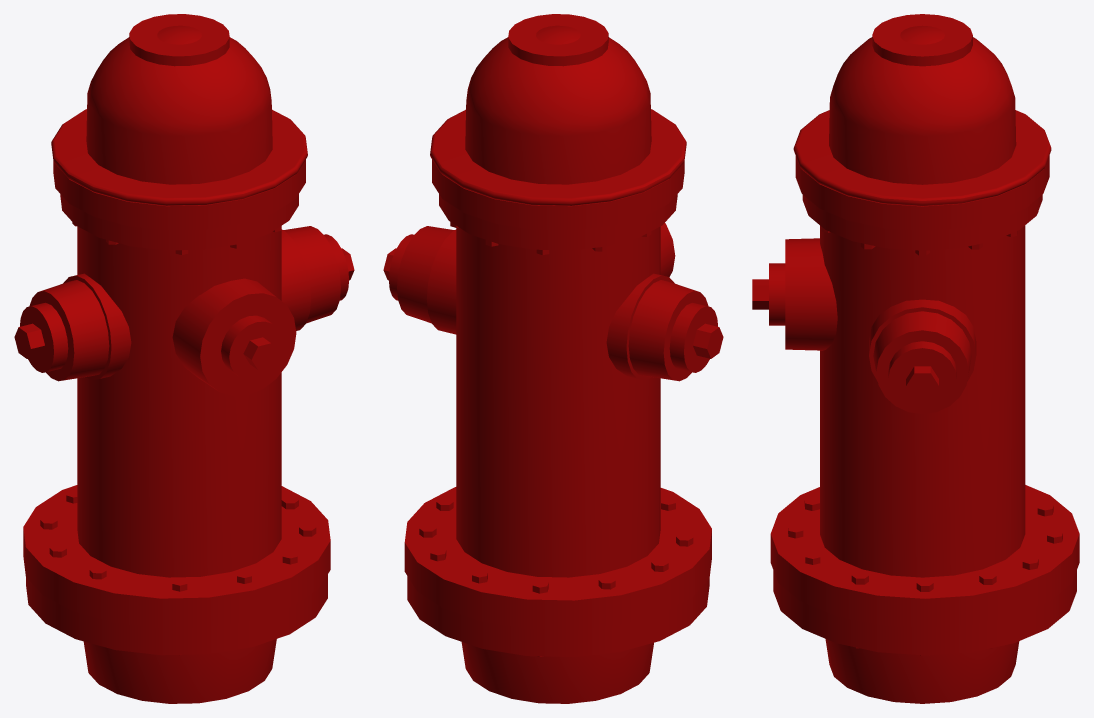
The model's file is N_Firehydrant.fbx.
3 views of the same model, side by side, from view 1: azimuth 30°, elevation 25°; view 2: azimuth 150°, elevation 25°; view 3: azimuth 270°, elevation 25° (orthographic).
Parts seen in each view (by area): view 1: N_Firehydrant; view 2: N_Firehydrant; view 3: N_Firehydrant.
Boxes of the visible parts, x1,y1,x2,y2 form: N_Firehydrant: [14, 14, 354, 703]; N_Firehydrant: [383, 14, 723, 703]; N_Firehydrant: [752, 14, 1079, 703].
Size of the model in its own units: 58.32 by 109 by 51.09.
